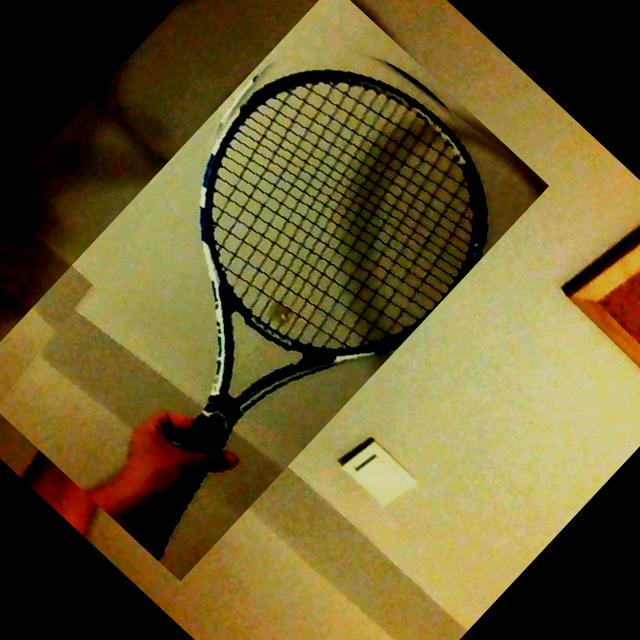TennisRacket: (0, 0, 548, 581)
